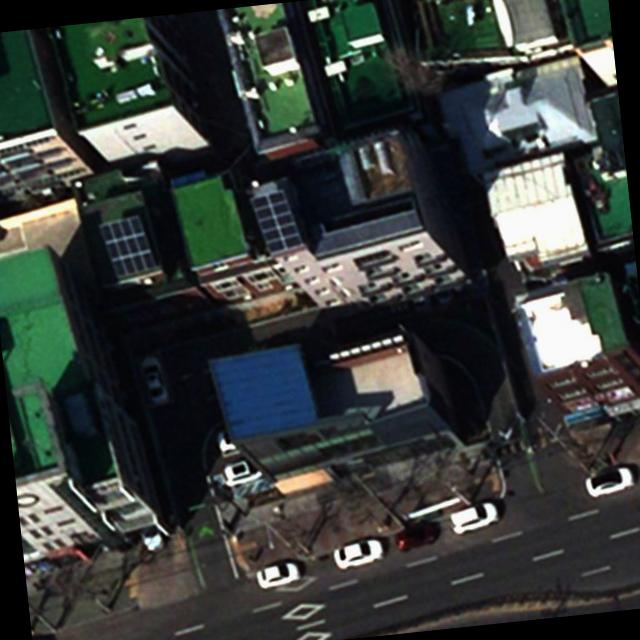solar: (96, 212, 158, 284), (250, 187, 302, 255)
